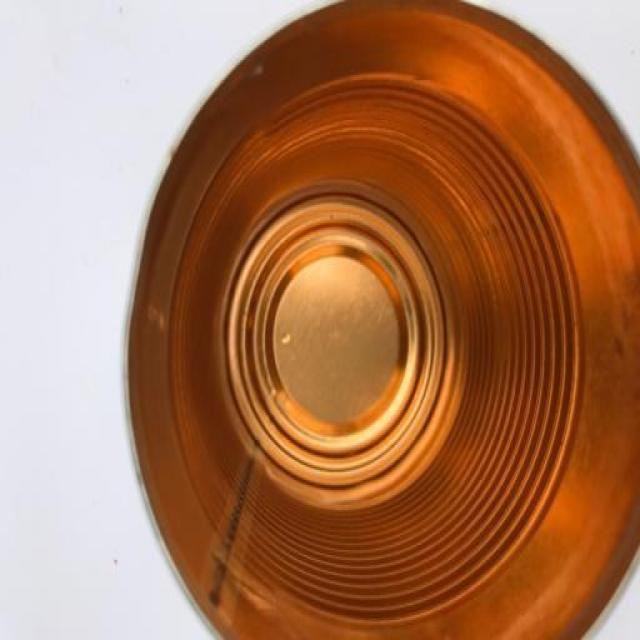metel: (117, 4, 640, 640)
